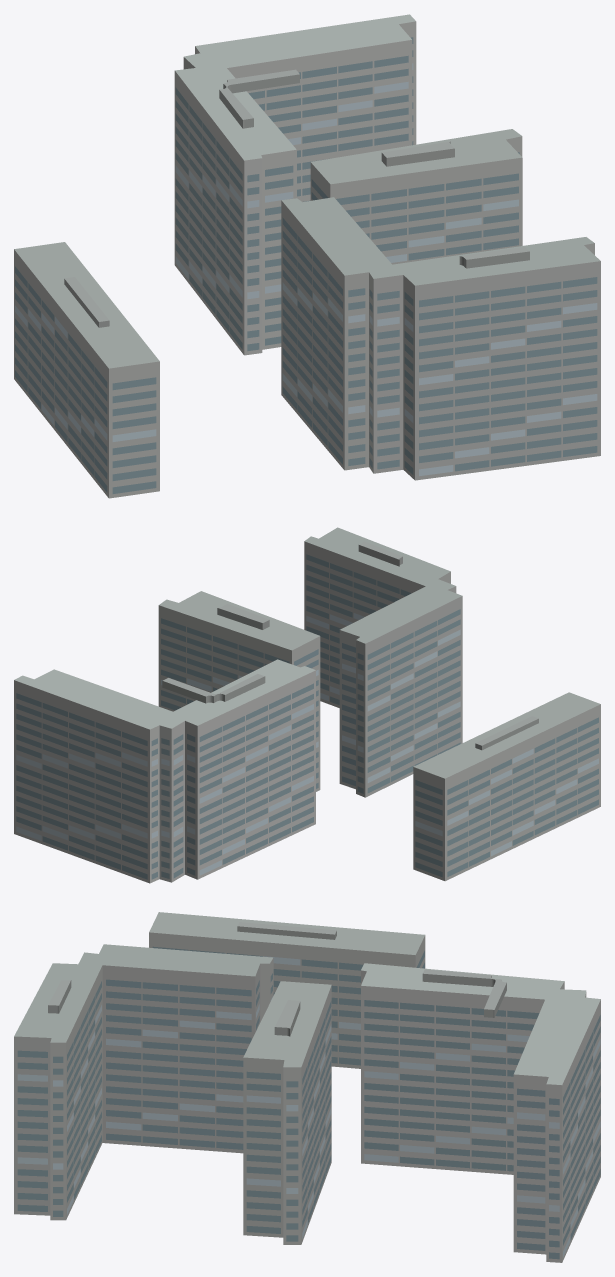
The model's file is apt-a15009505.glb.
3 renders of one model, top to bottom at view 1: azimuth 30°, elevation 25°; view 2: azimuth 150°, elevation 25°; view 3: azimuth 270°, elevation 25°, orthographic. The views are drawn at different scales.
Visible parts, largest first — view 1: apt-a15009505; view 2: apt-a15009505; view 3: apt-a15009505.
Boxes of the visible parts, <box> form: apt-a15009505: <box>14,14,600,498</box>; apt-a15009505: <box>14,527,600,883</box>; apt-a15009505: <box>14,912,600,1262</box>.
Size of the model in its own units: 128 by 47.81 by 137.
